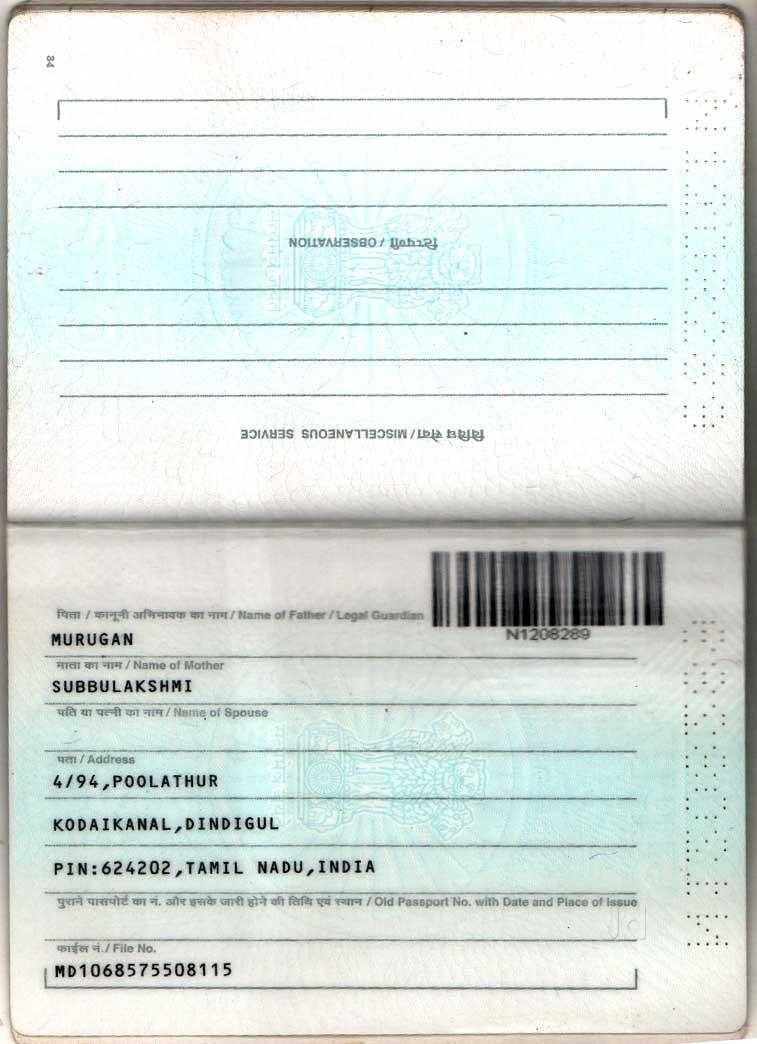File_no: (51, 961, 239, 986)
address: (44, 770, 381, 884)
father_name: (40, 624, 145, 658)
mother_name: (38, 670, 214, 710)
passport_no: (496, 624, 597, 646)
